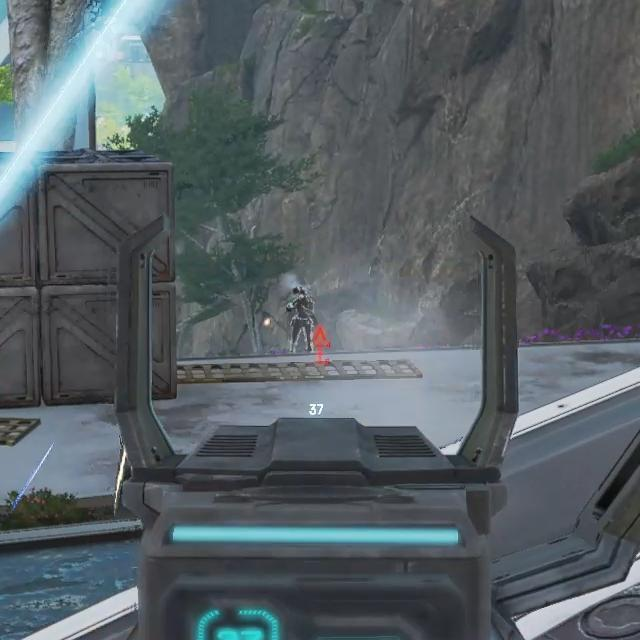avatar: (284, 284, 317, 352)
